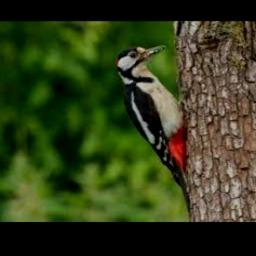Woodpecker: (116, 46, 191, 217)
